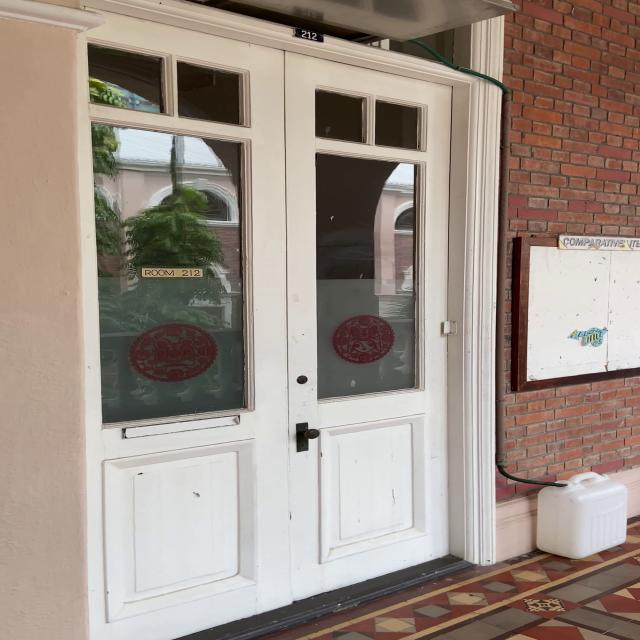room212: (290, 24, 322, 42)
room212Window: (134, 262, 209, 281)
